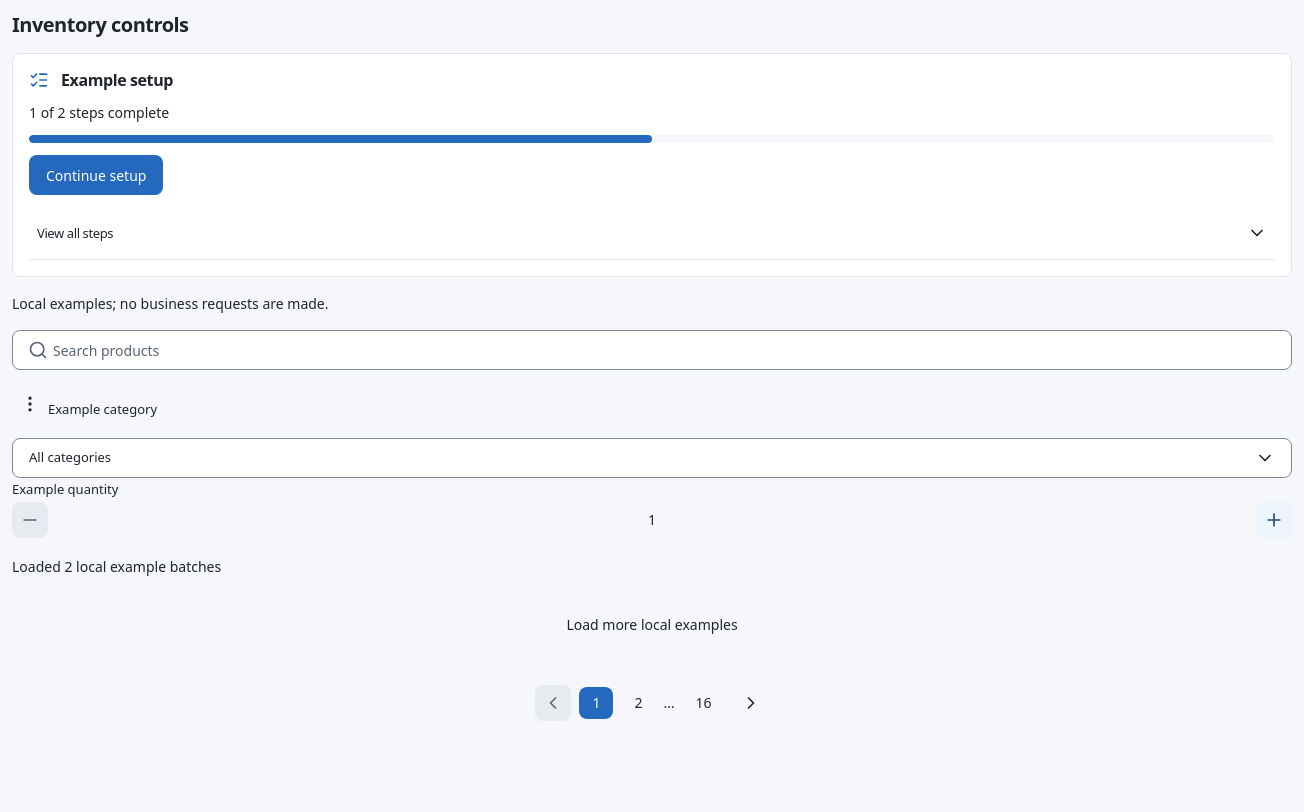
steps quantities and navigates bounded numbered pages without submitting forms
Click the button named "Increase Example quantity" at (1274, 520), box [1256,502,1292,538]
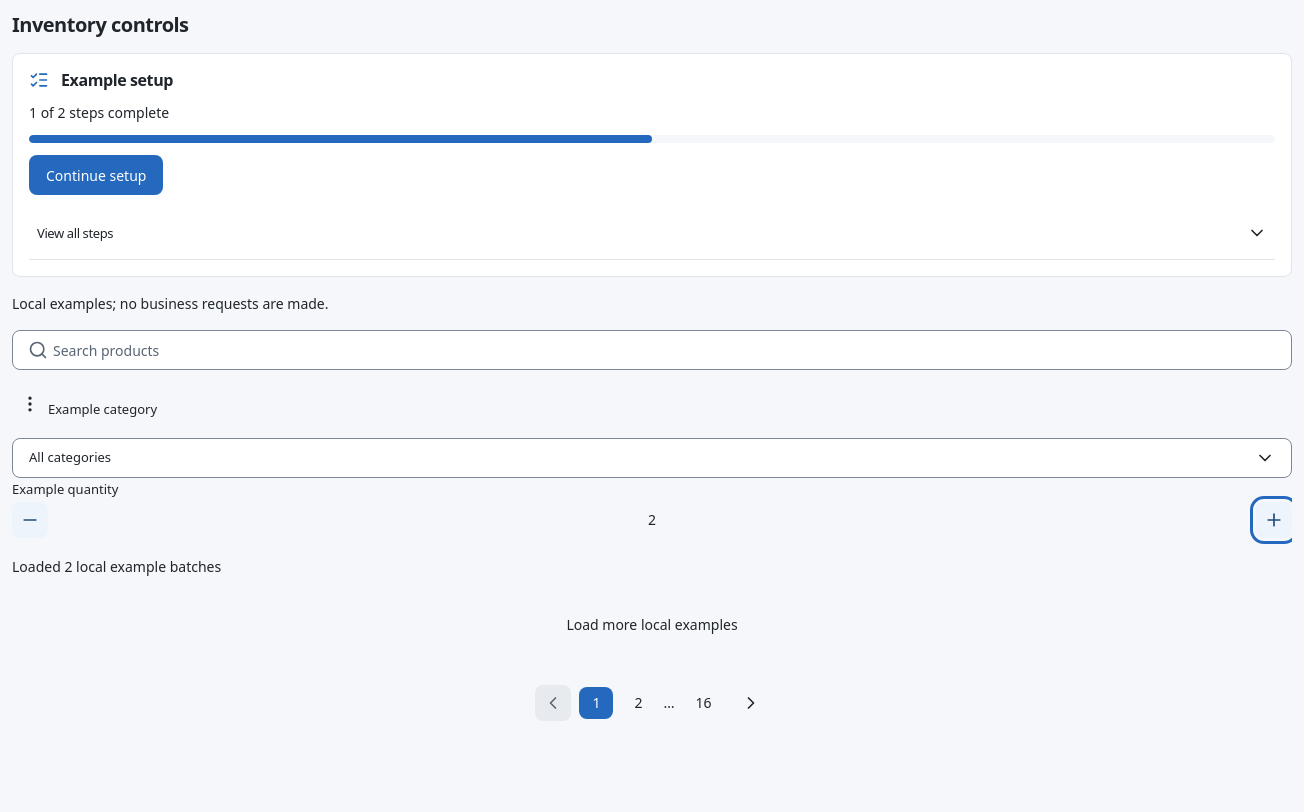
Now the field labelled "Example quantity" holds "2", box [56,500,1248,540]
Click the button named "Page 16" at (704, 702), box [682,686,724,718]
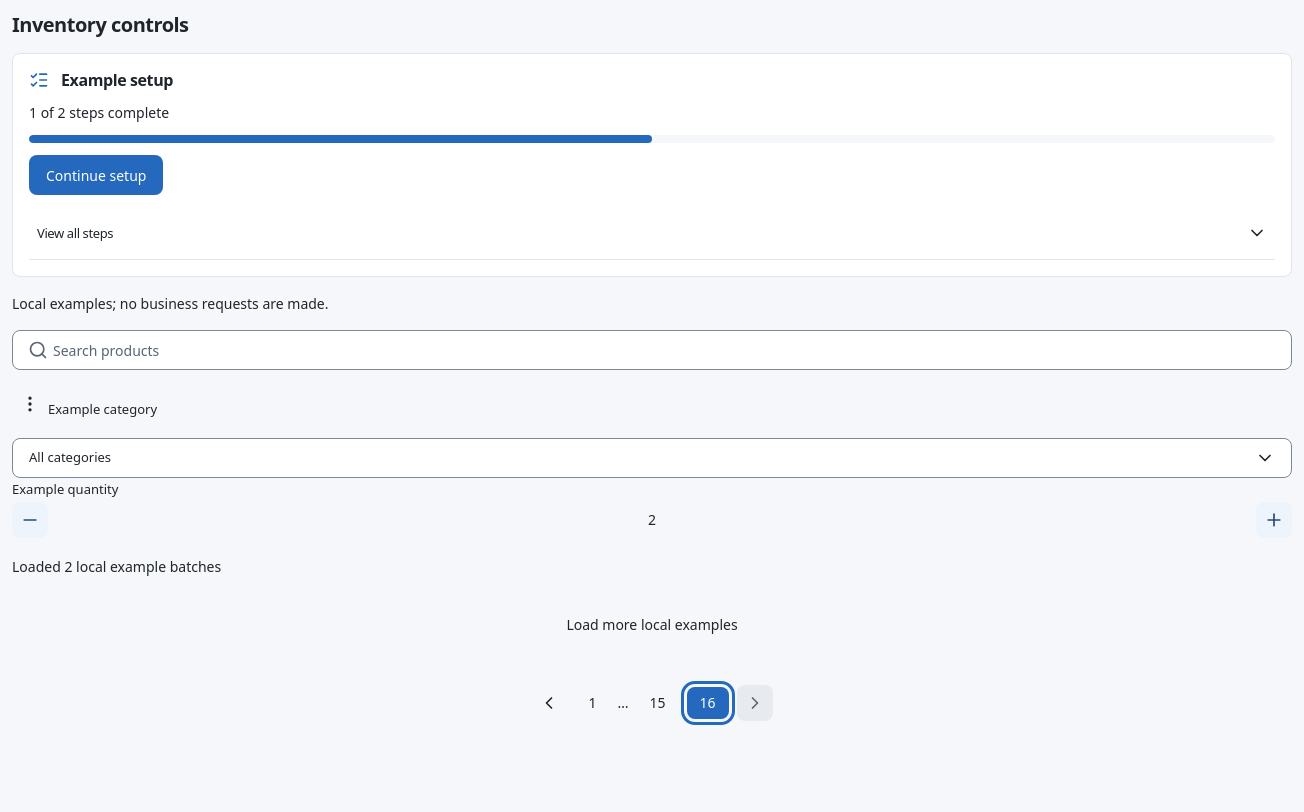
Now the button named "Next example products" is disabled, box [737,684,773,720]
